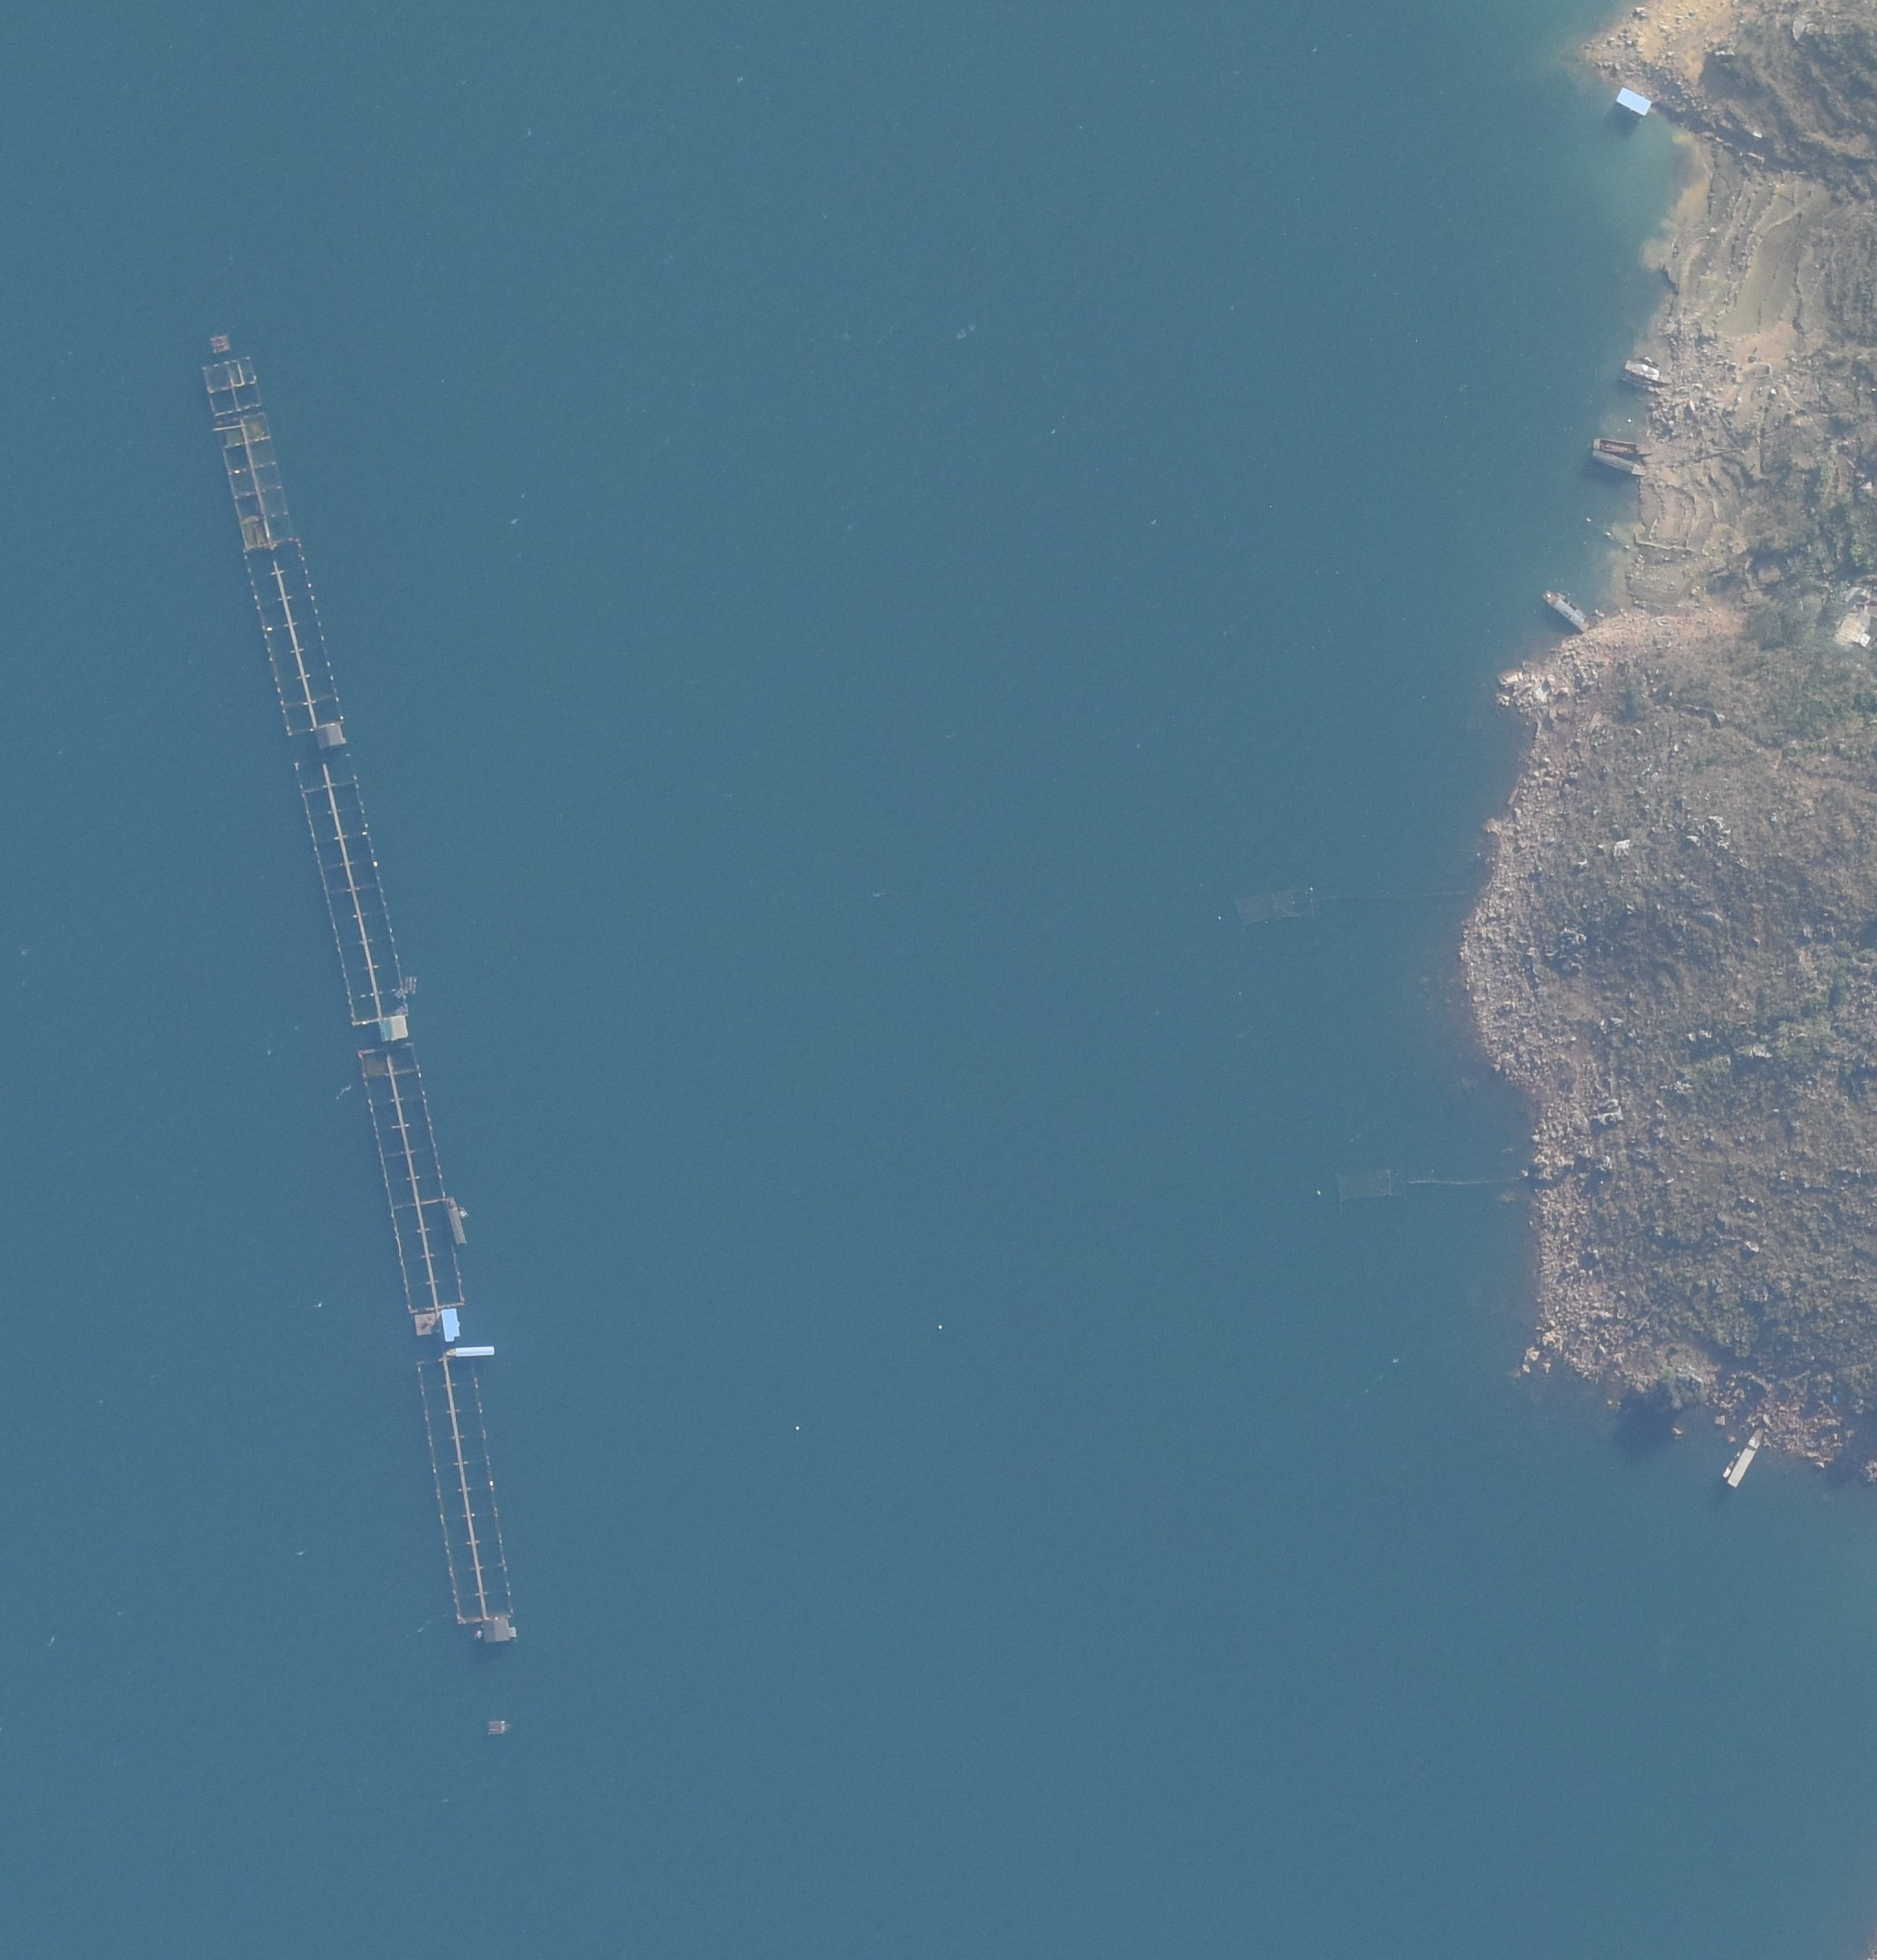cultivation-mesh-cage: (203, 352, 346, 741), (299, 744, 405, 1027), (359, 1044, 467, 1318), (416, 1352, 519, 1625)
prefabricated-house: (1615, 87, 1653, 118), (447, 1196, 468, 1245), (378, 1015, 408, 1041), (314, 722, 345, 748), (439, 1308, 462, 1342), (480, 1618, 513, 1642), (415, 1312, 440, 1334), (210, 335, 230, 355)
ship: (1721, 1427, 1768, 1490), (1541, 587, 1589, 633), (1591, 448, 1646, 482), (1624, 358, 1677, 387), (1591, 439, 1646, 456)
